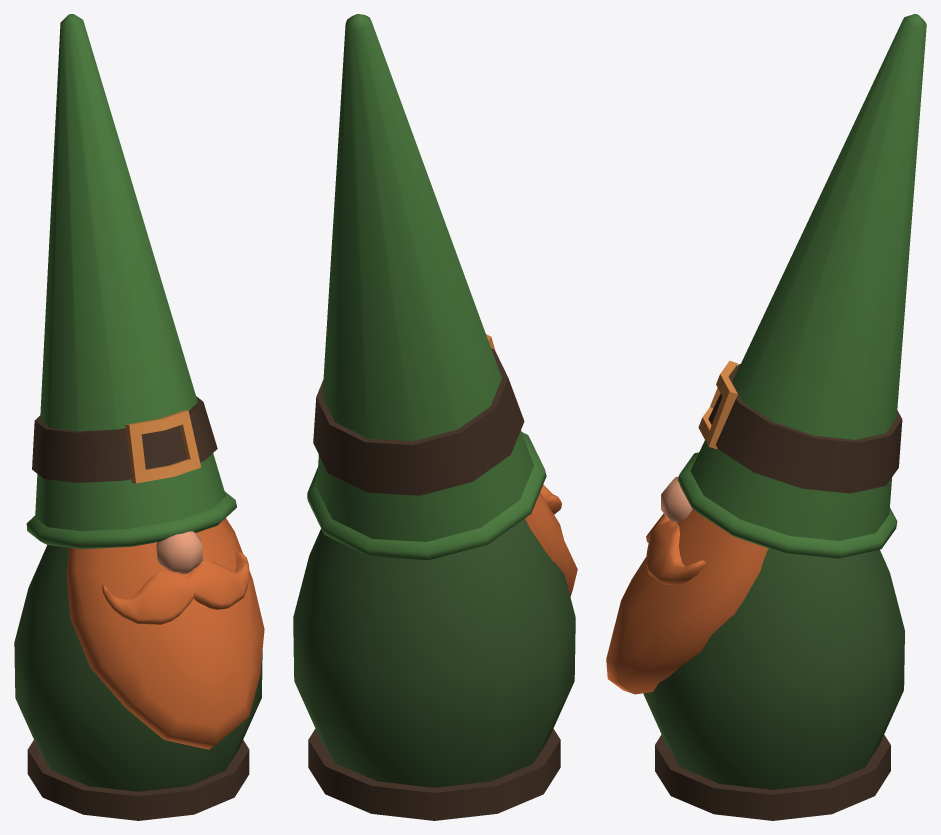
File: LeprechaunGnome_01.fbx
The picture shows the model from 3 angles, left to right: view 1: azimuth 30°, elevation 25°; view 2: azimuth 150°, elevation 25°; view 3: azimuth 270°, elevation 25°; orthographic projection. The views are drawn at different scales.
Visible parts, largest first — view 1: LeprechaunGnome_01; view 2: LeprechaunGnome_01; view 3: LeprechaunGnome_01.
Boxes of the visible parts, bbox=[...] form: LeprechaunGnome_01: bbox=[14, 14, 264, 820]; LeprechaunGnome_01: bbox=[293, 14, 577, 820]; LeprechaunGnome_01: bbox=[606, 14, 926, 820].
Size of the model in its own units: 0.2154 by 0.6801 by 0.2613.
